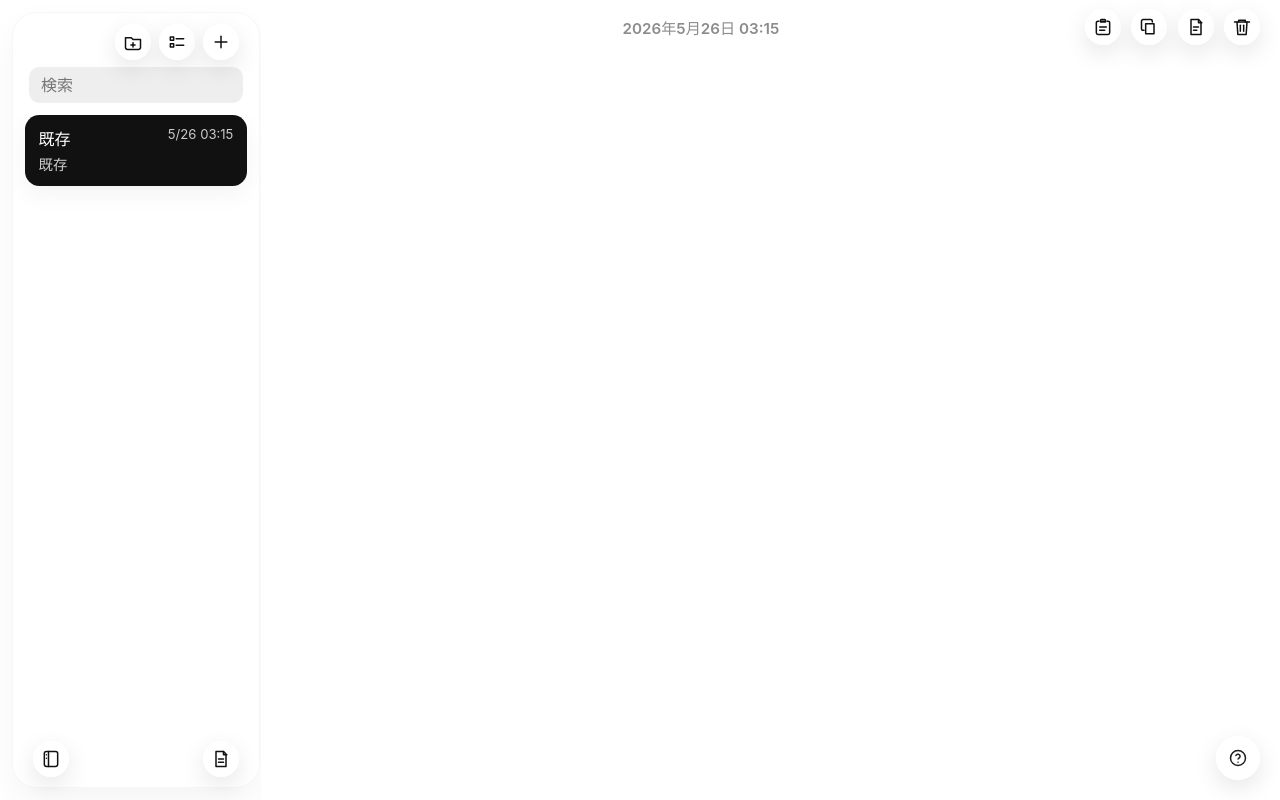
Test: App › creates a note folder from the note list
Check: the option "既存 5/26 03:15 既存" is shown, box [25,115,247,186]
Click the button named "新しいNote folderを作成": (133,42) [115,24,151,60]
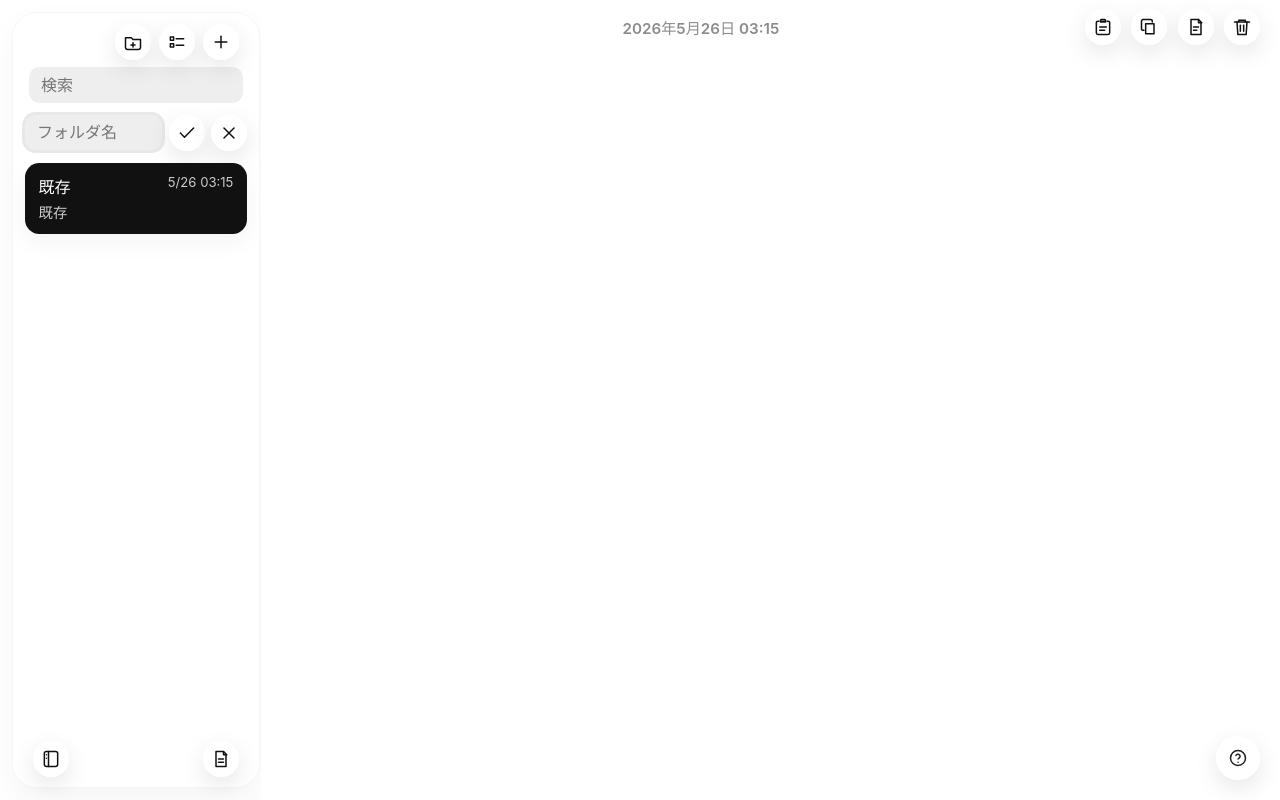
In the field named "Note folder name": (94,132) [25,115,162,150], type "仕事"
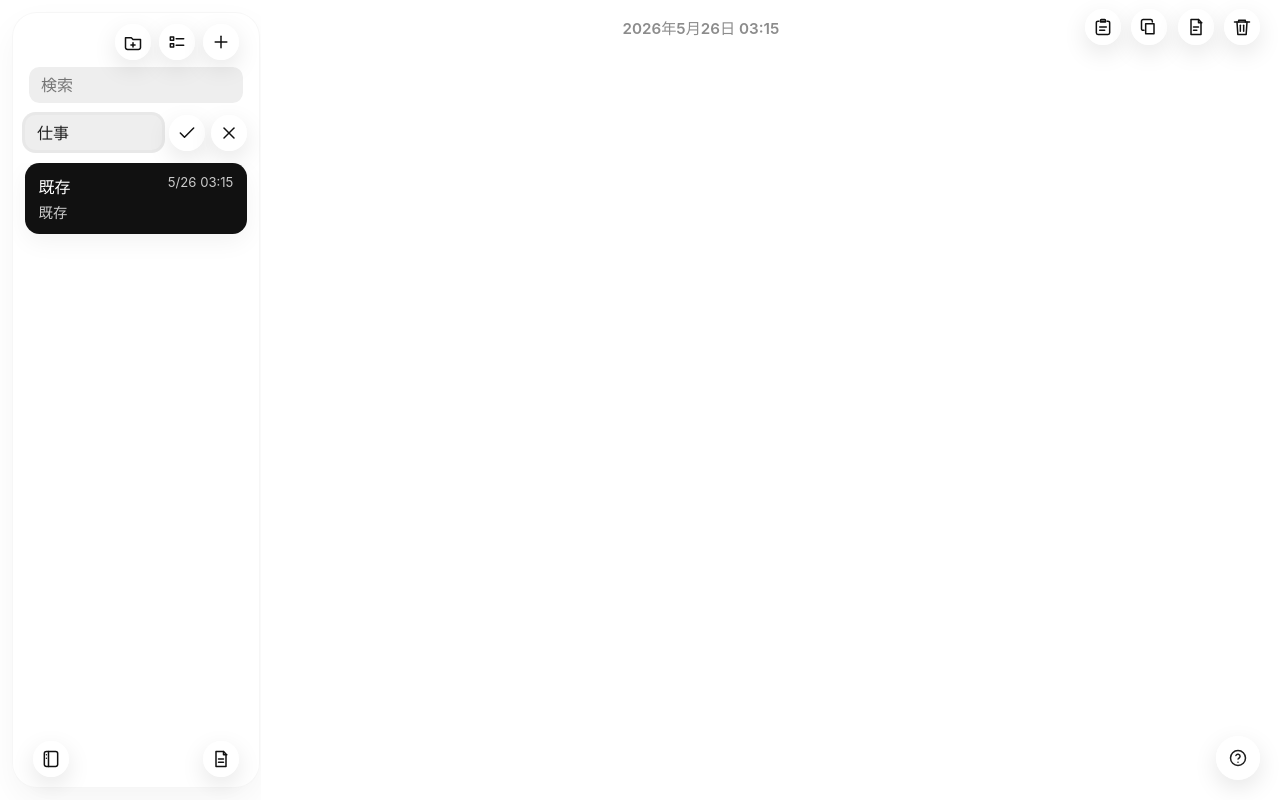
Click the button named "Note folderを保存": (187,133) [169,115,205,151]
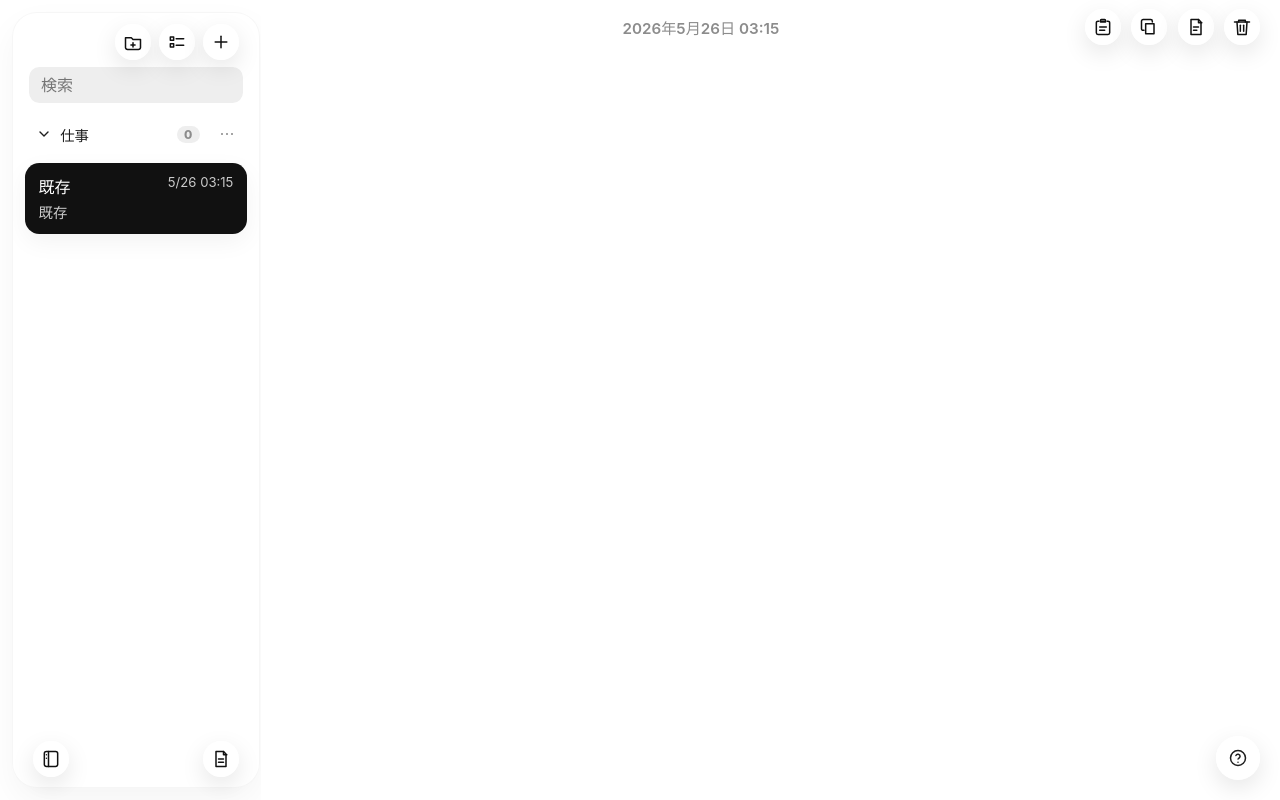
Check: the element named "仕事のNote" is shown, box [25,115,247,154]
